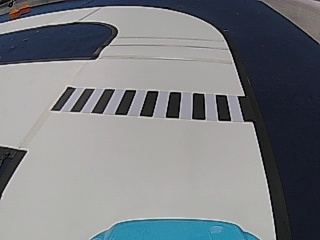CrossWalk: (50, 85, 254, 123)
